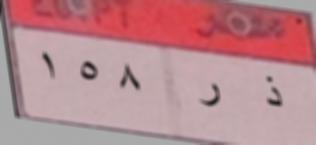1: (35, 47, 60, 84)
5: (77, 57, 100, 83)
8: (113, 58, 143, 96)
raa: (198, 78, 224, 115)
zaal: (259, 71, 285, 113)
